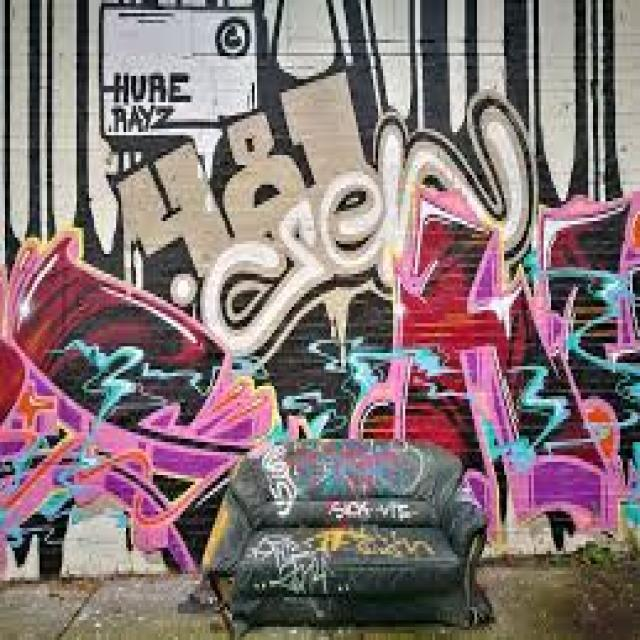-: (2, 72, 640, 548), (0, 0, 640, 258)
